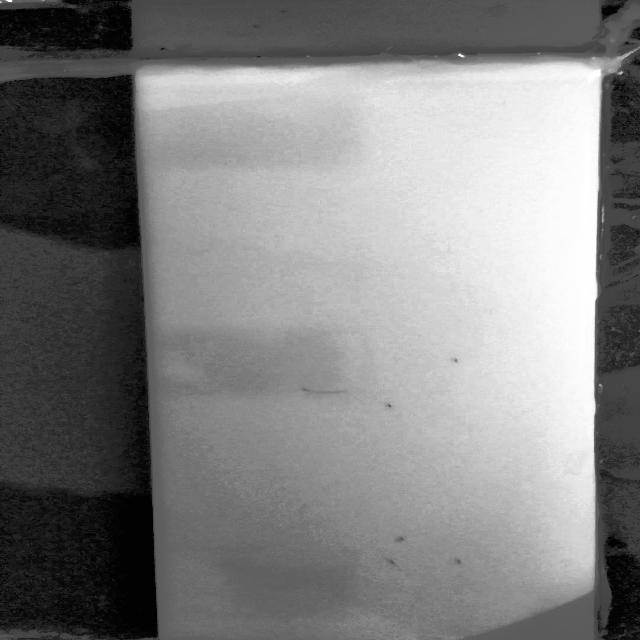shrimp: (382, 554, 404, 566), (384, 400, 397, 413), (451, 557, 467, 564), (396, 535, 408, 544)
